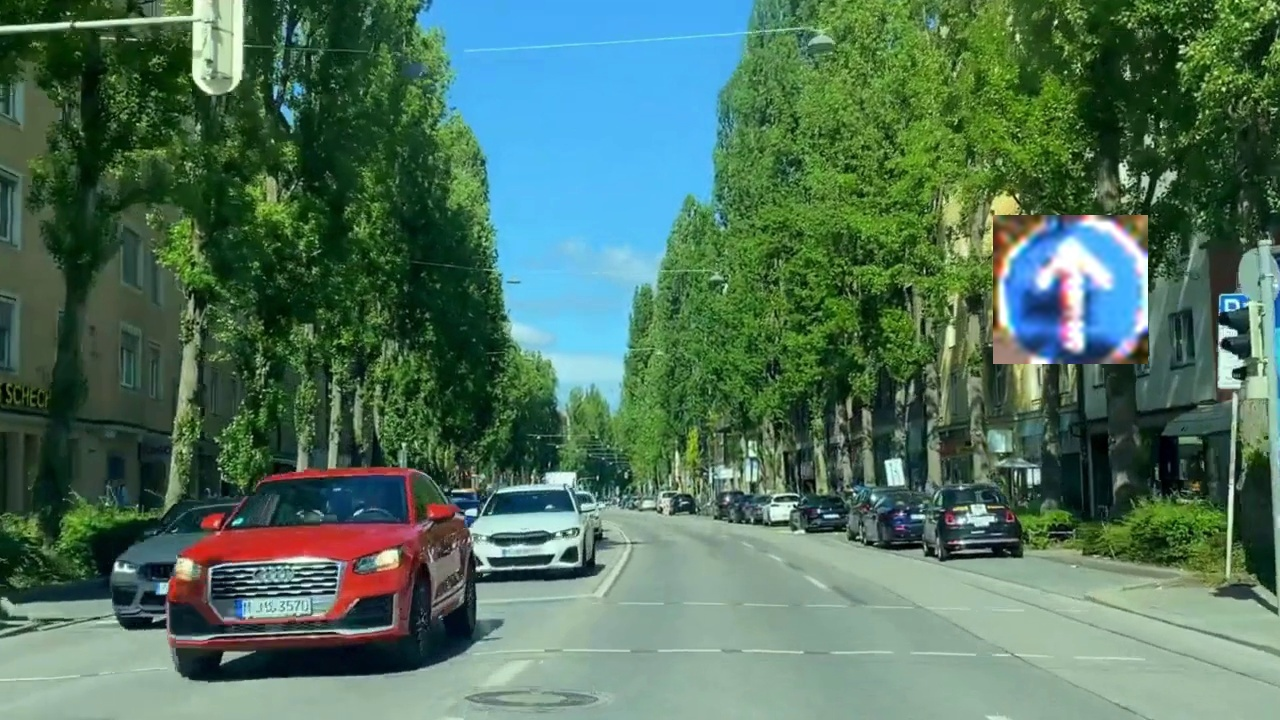Ahead only: (993, 215, 1148, 364)
